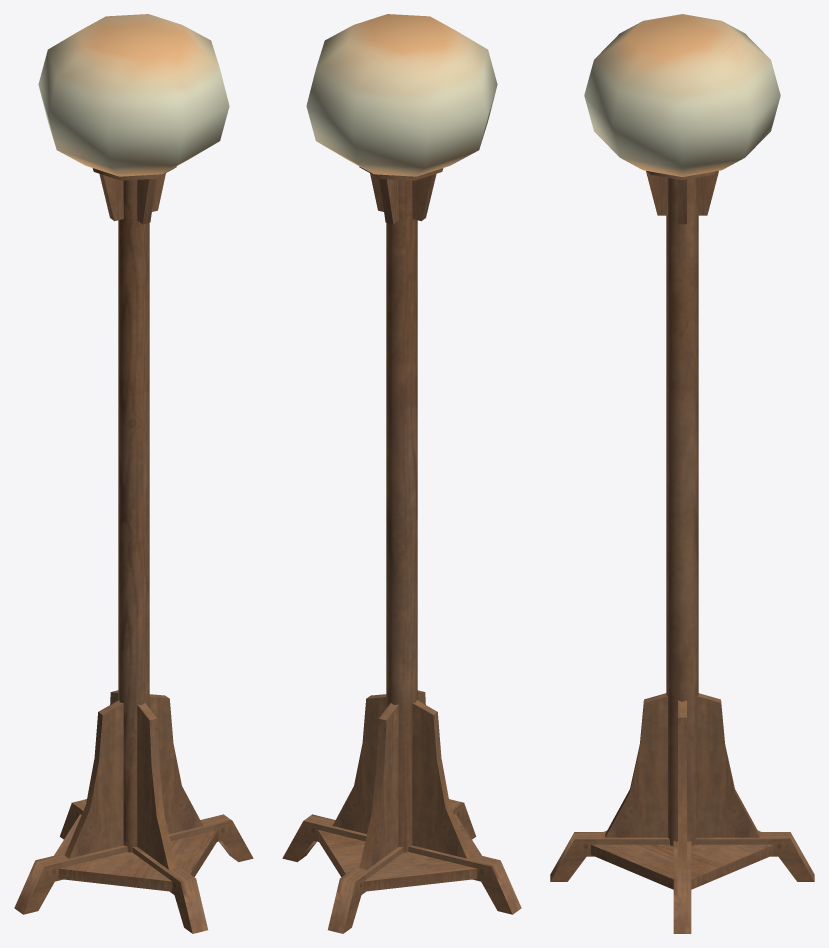
The model's file is mt_prop_lideng.fbx.
3 views of the same model, side by side, from view 1: azimuth 30°, elevation 25°; view 2: azimuth 150°, elevation 25°; view 3: azimuth 270°, elevation 25° (orthographic).
Visible parts, largest first — view 1: mt_prop_lideng; view 2: mt_prop_lideng; view 3: mt_prop_lideng.
Part boxes in pixels (x1,y1,x2,y2): mt_prop_lideng: (14,14,253,933); mt_prop_lideng: (282,14,521,933); mt_prop_lideng: (550,14,814,933).
Size of the model in its own units: 32.51 by 114 by 32.51.
